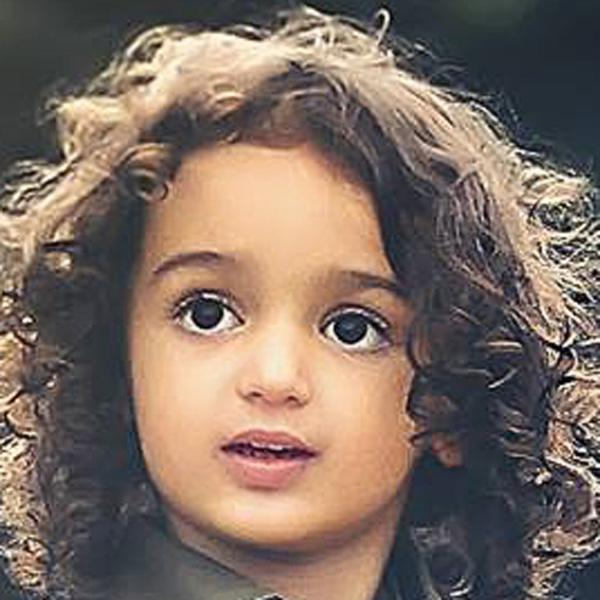Eyes: (157, 278, 254, 348), (304, 294, 395, 360)
